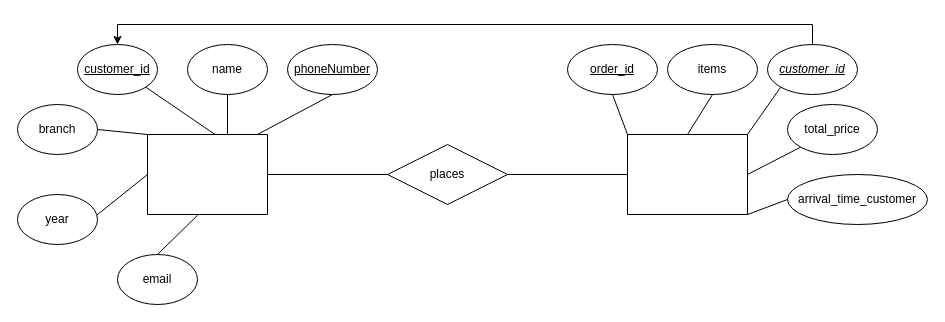
The diagram is 945 pixels wide and 322 high, and some of its shapes have lost their labels. The shapes that lost their labels are listed below. From the top down, each one's box as (x1, y1, x2, y2) in pixels, then its label:
(146, 134, 268, 214): customers
(626, 134, 748, 214): order
